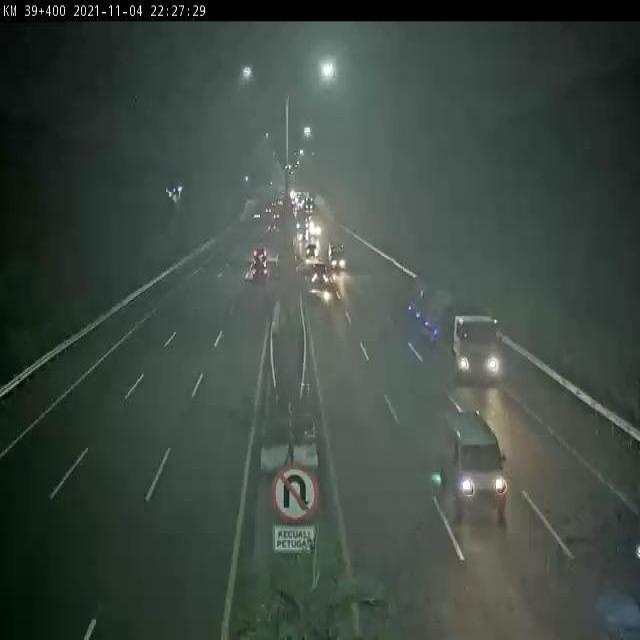car: (444, 409, 509, 520), (310, 263, 331, 289), (251, 263, 268, 281)
truck-s-: (328, 244, 349, 272)
truck-xl-: (406, 284, 502, 385)
